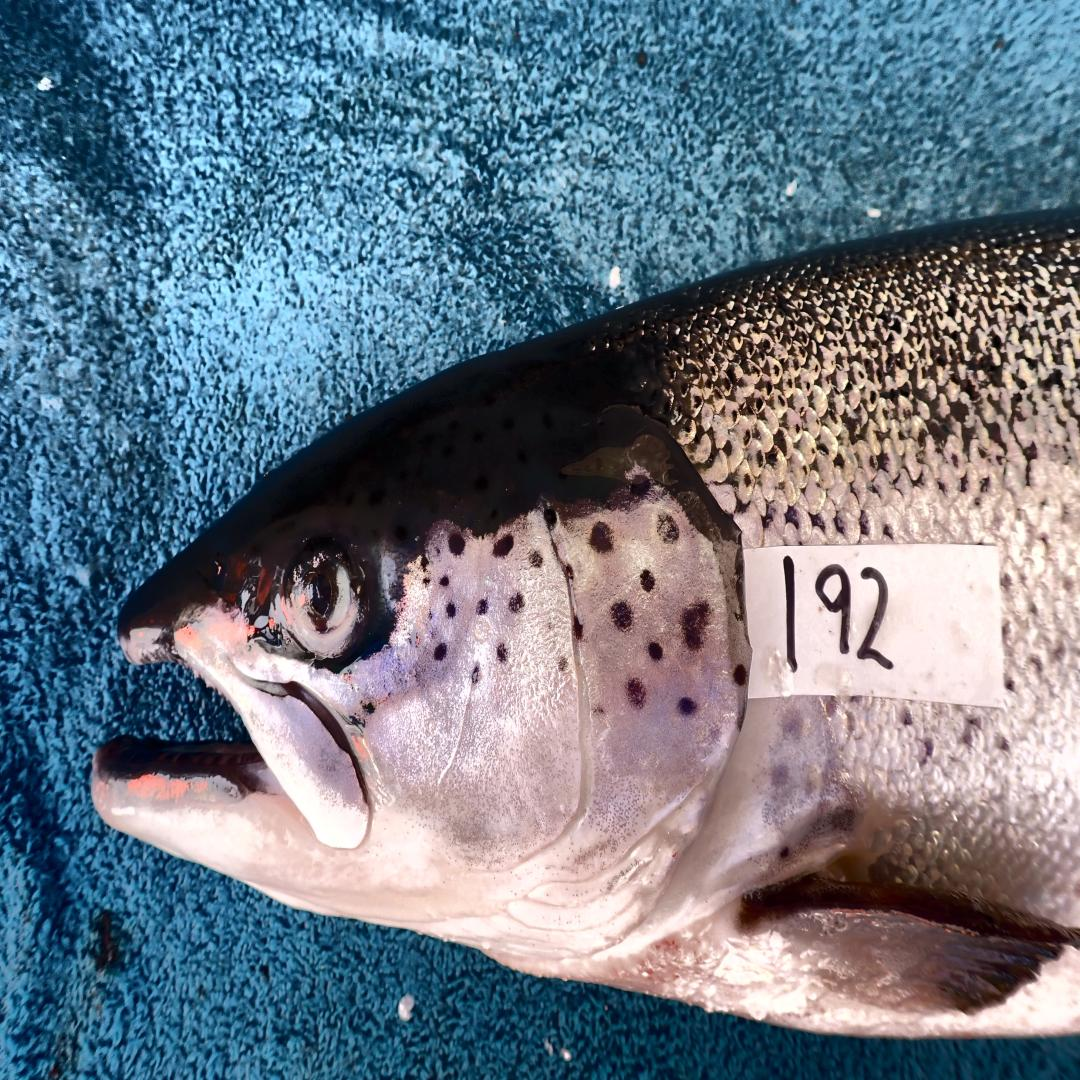spot: (681, 602, 709, 650), (589, 520, 614, 554), (656, 515, 679, 543), (626, 678, 645, 709), (612, 602, 633, 630), (629, 474, 651, 498), (494, 534, 515, 557), (447, 532, 466, 557), (639, 568, 656, 591), (508, 593, 525, 613), (572, 614, 584, 641), (544, 506, 557, 529), (734, 664, 747, 686), (648, 641, 662, 661), (679, 698, 696, 714), (496, 644, 508, 664), (556, 657, 569, 675), (529, 551, 542, 568), (565, 564, 575, 586), (470, 664, 480, 685), (435, 644, 447, 661), (445, 602, 456, 619), (477, 599, 487, 616), (421, 557, 429, 572), (423, 575, 430, 585), (441, 577, 449, 585)
